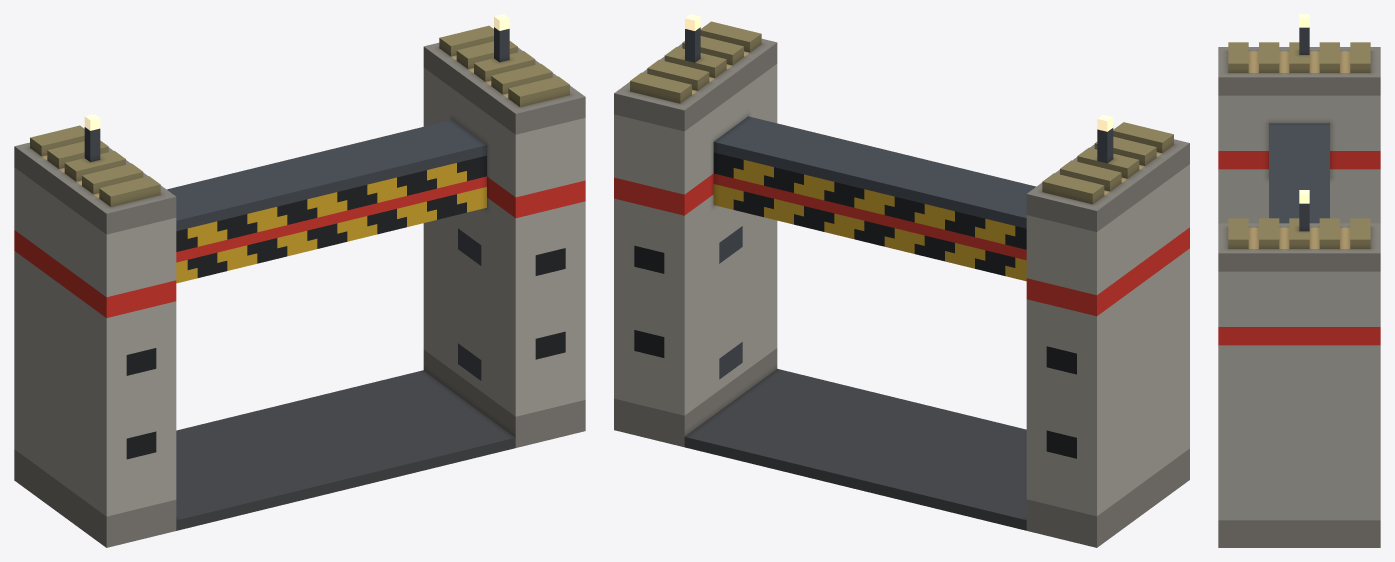
Rendered from cm_gate_0.glb.
The picture shows the model from 3 angles, left to right: view 1: azimuth 30°, elevation 25°; view 2: azimuth 150°, elevation 25°; view 3: azimuth 270°, elevation 25°; orthographic projection. The views are drawn at different scales.
Parts seen in each view (by area): view 1: cm_gate_0_body; view 2: cm_gate_0_body; view 3: cm_gate_0_body.
Boxes of the visible parts, x1=… form: cm_gate_0_body: x1=14, y1=14, x2=585, y2=547; cm_gate_0_body: x1=614, y1=14, x2=1189, y2=547; cm_gate_0_body: x1=1218, y1=14, x2=1380, y2=547.
Bounding box in the file's own units: 3 × 2.31 × 1.
1 material, 1 textured.
